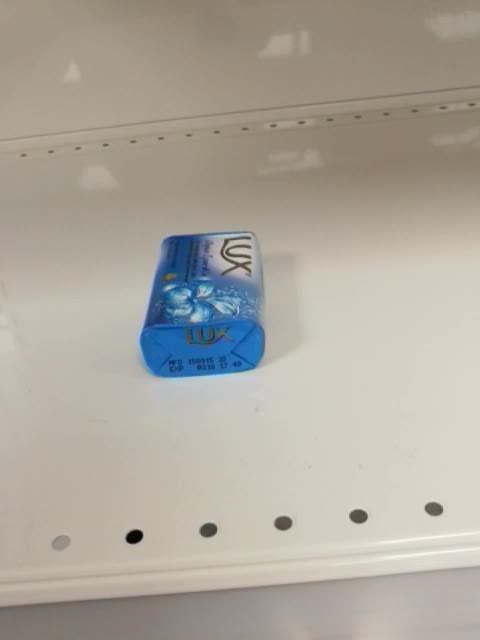soap: (136, 229, 269, 380)
